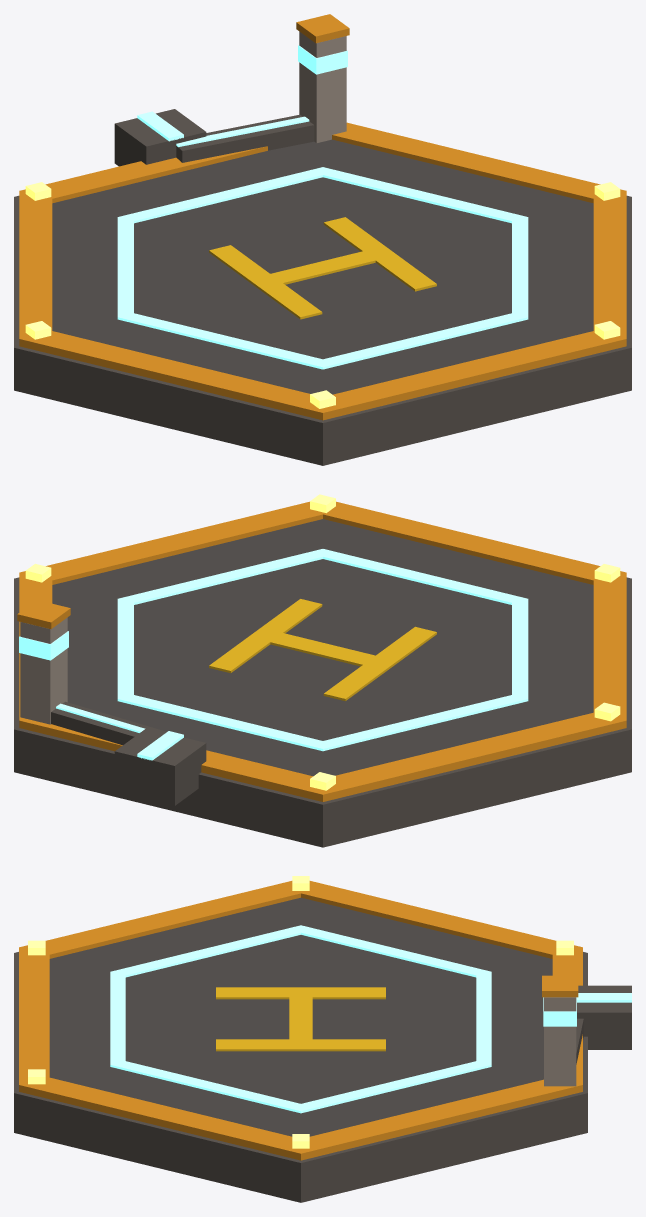
Rendered from laac-plocha.glb.
3 views of the same model, one above another, from view 1: azimuth 30°, elevation 25°; view 2: azimuth 150°, elevation 25°; view 3: azimuth 270°, elevation 25° (orthographic). The views are drawn at different scales.
Visible parts, largest first — view 1: plocha; view 2: plocha; view 3: plocha.
Part boxes in pixels (x1,y1,x2,y2): plocha: [14, 14, 631, 465]; plocha: [14, 494, 631, 847]; plocha: [14, 876, 631, 1202].
Bounding box in the file's own units: 11.32 × 2.69 × 10.55.
